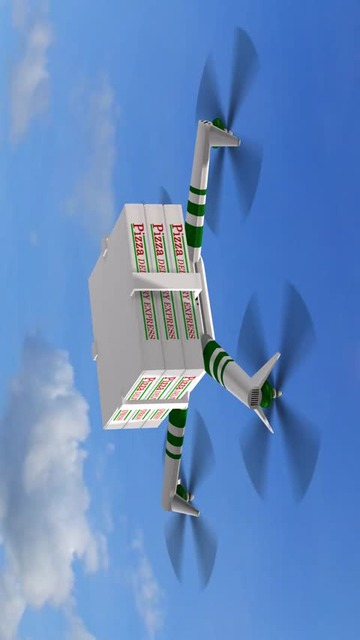drone: (87, 26, 323, 590)
